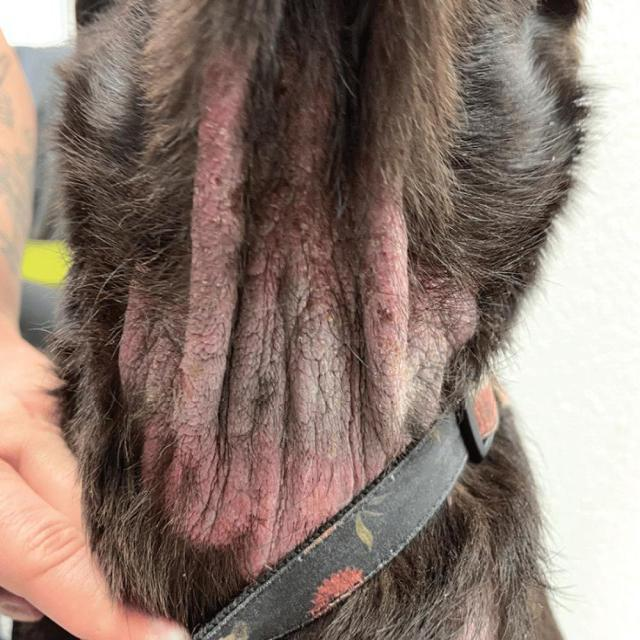allergic dermatitis: (119, 77, 412, 576)
